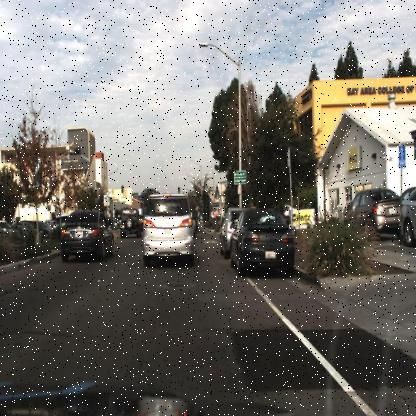car: (132, 182, 202, 280), (229, 210, 296, 278), (142, 192, 200, 265), (58, 208, 118, 264), (345, 187, 400, 231), (271, 197, 307, 234), (219, 204, 240, 263), (119, 209, 143, 243)
